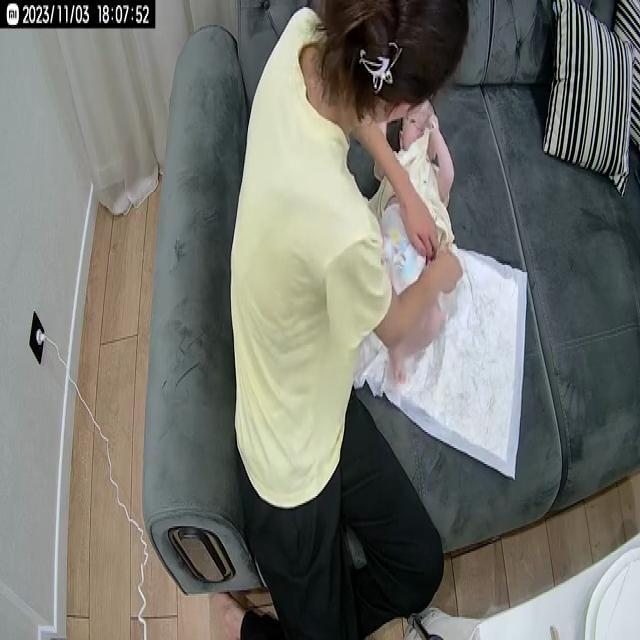baby: (366, 82, 466, 376)
